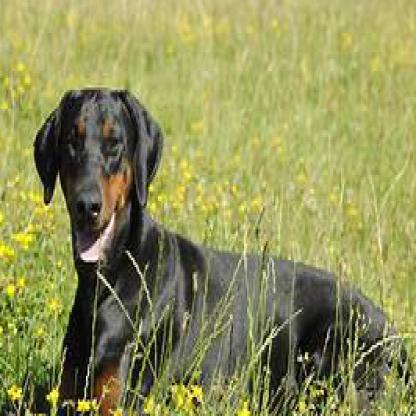dog: (31, 88, 413, 414)
